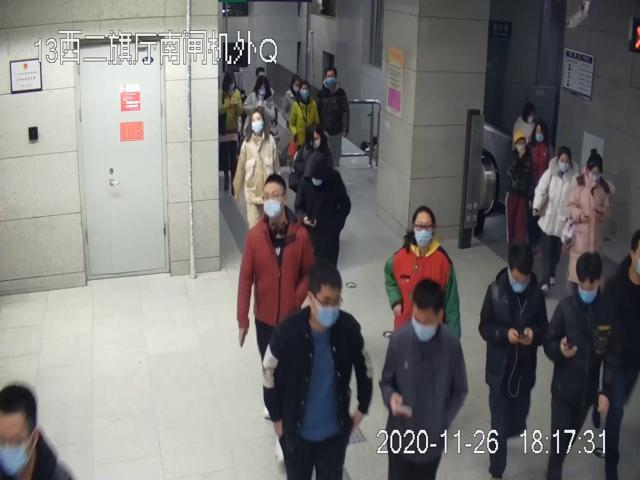person: (261, 264, 376, 480), (236, 173, 315, 462), (544, 251, 623, 480), (381, 278, 470, 480), (479, 244, 549, 480), (383, 206, 460, 366), (293, 154, 352, 278), (570, 148, 613, 298), (534, 146, 579, 284), (233, 107, 282, 232), (318, 68, 349, 170), (289, 80, 319, 152)
